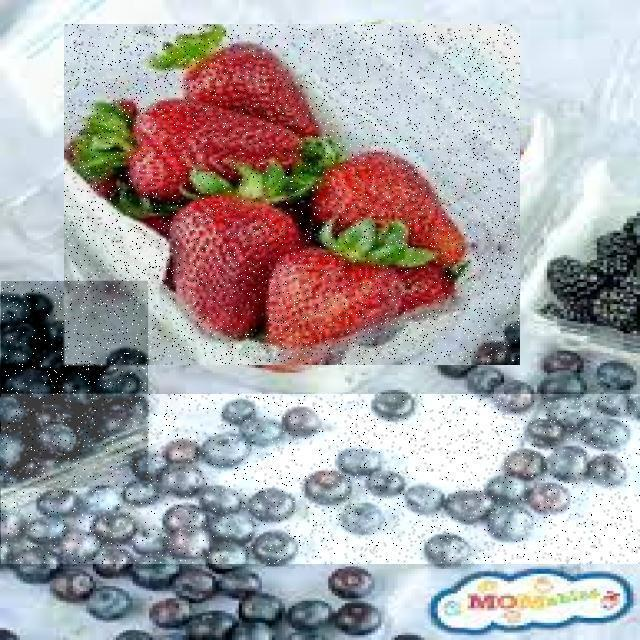Blue Berries: (1, 394, 640, 564), (1, 281, 148, 488)
Straw Berry: (64, 24, 520, 365)
